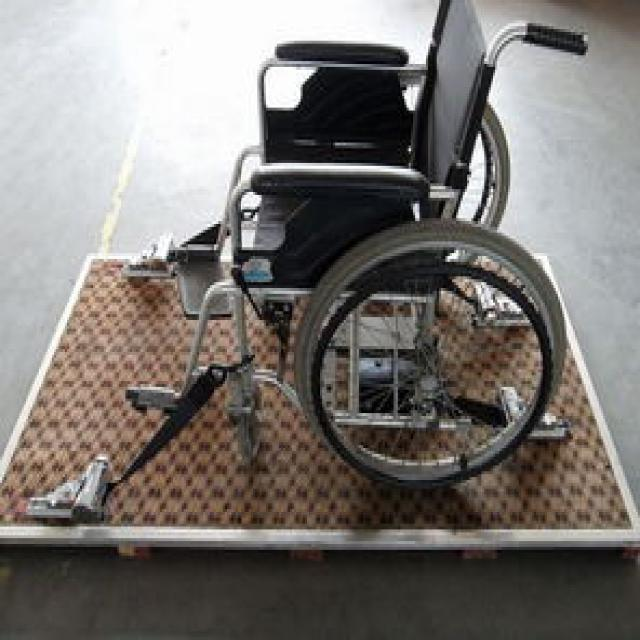wheelchairs: (178, 0, 571, 479)
